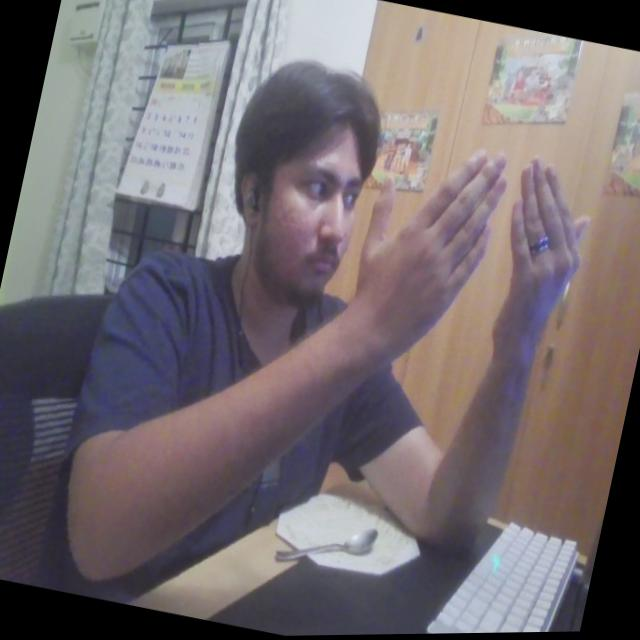thankyou: (334, 111, 606, 399)
